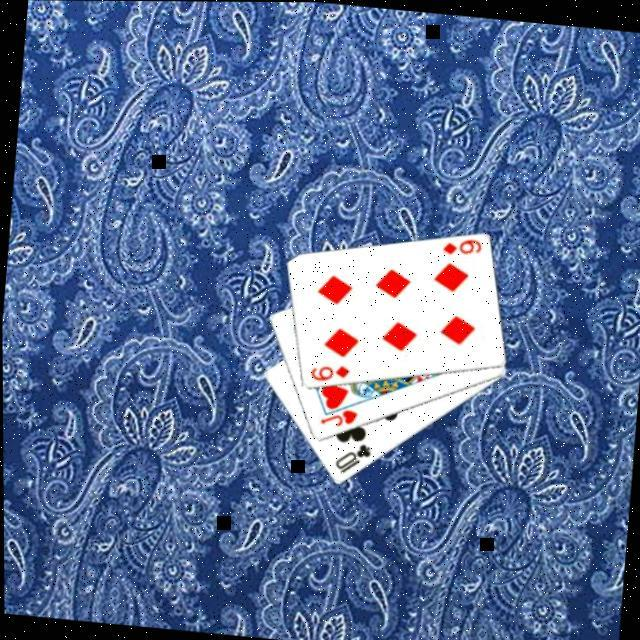10C: (330, 439, 374, 478)
6D: (438, 234, 484, 260), (306, 361, 352, 386)
JH: (316, 404, 360, 430)
